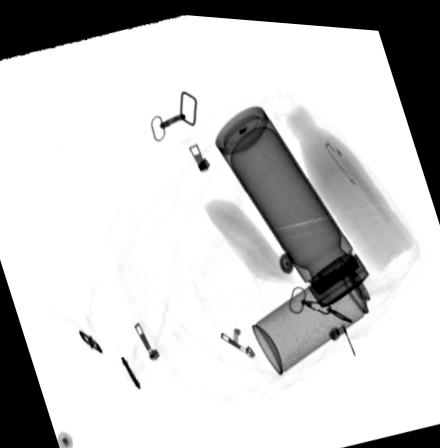Sprayer: (251, 238, 398, 372)
